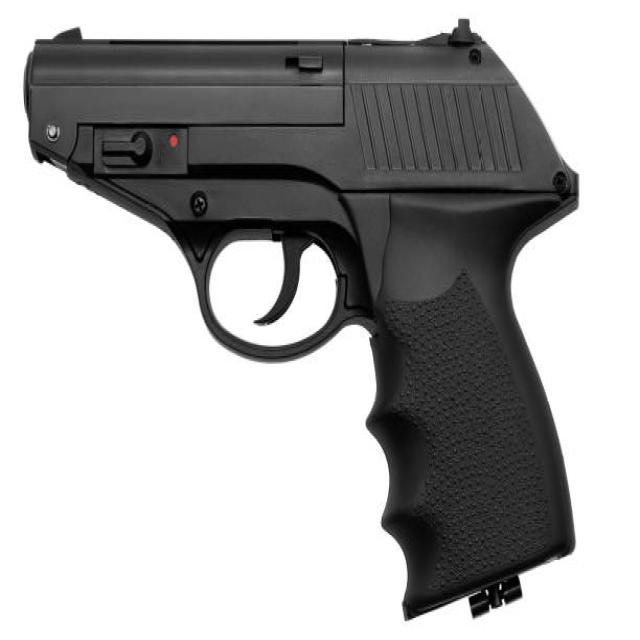pistol: (20, 6, 587, 635)
